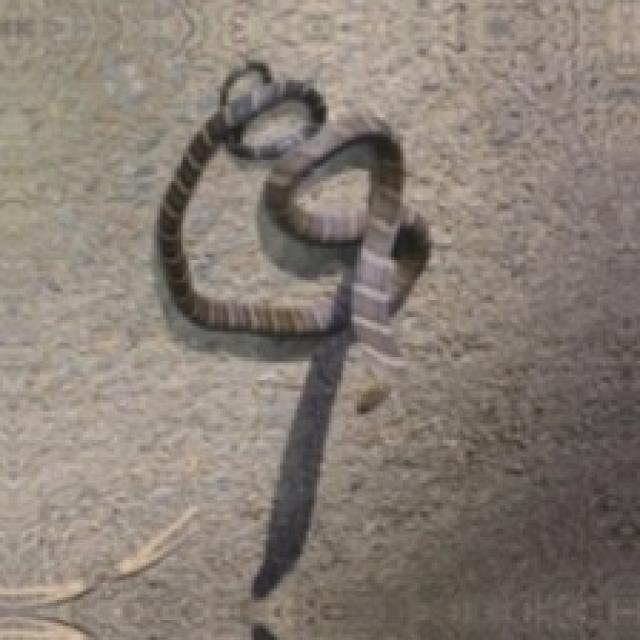king cobra: (157, 60, 429, 366), (254, 334, 349, 594)
